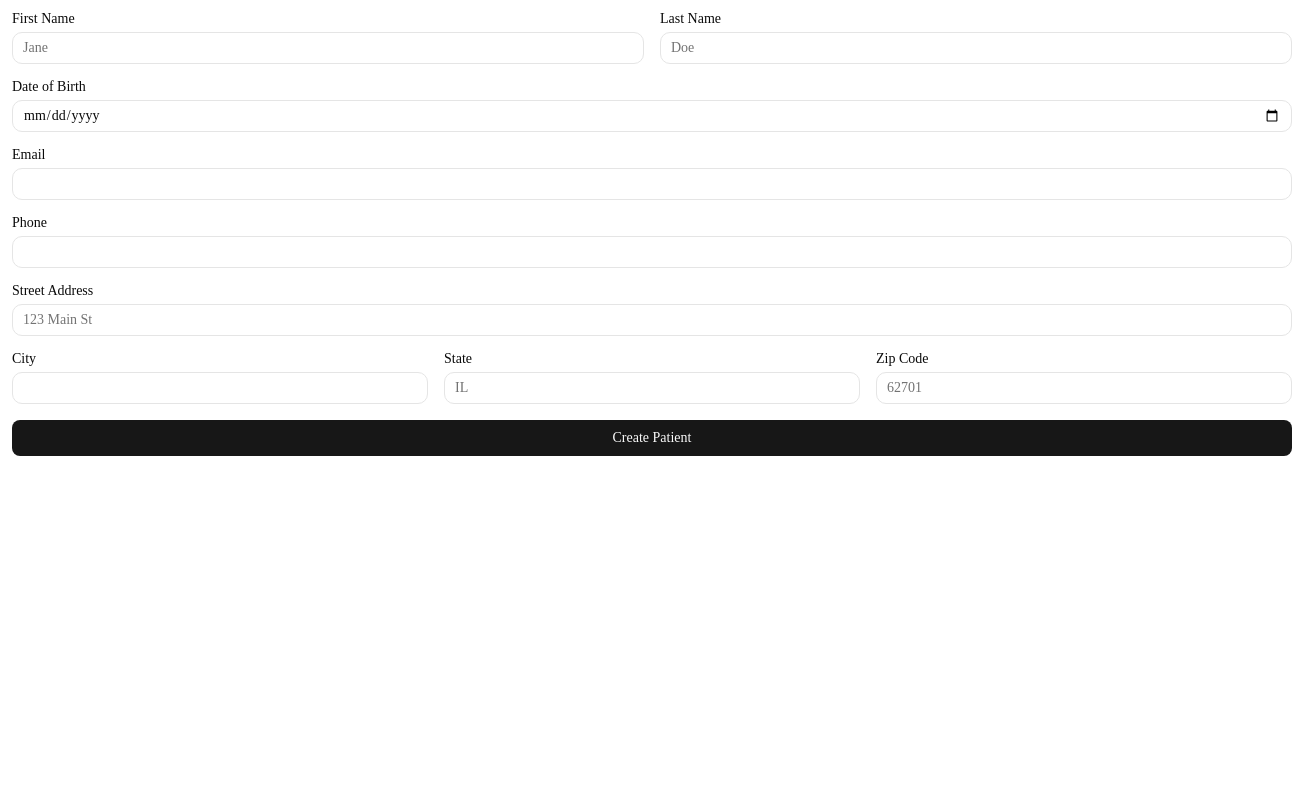
NewPatientForm › shows all field errors when the form is submitted with no input
Click the button "Create Patient" at (652, 438), box x1=12 y1=420 x2=1292 y2=456
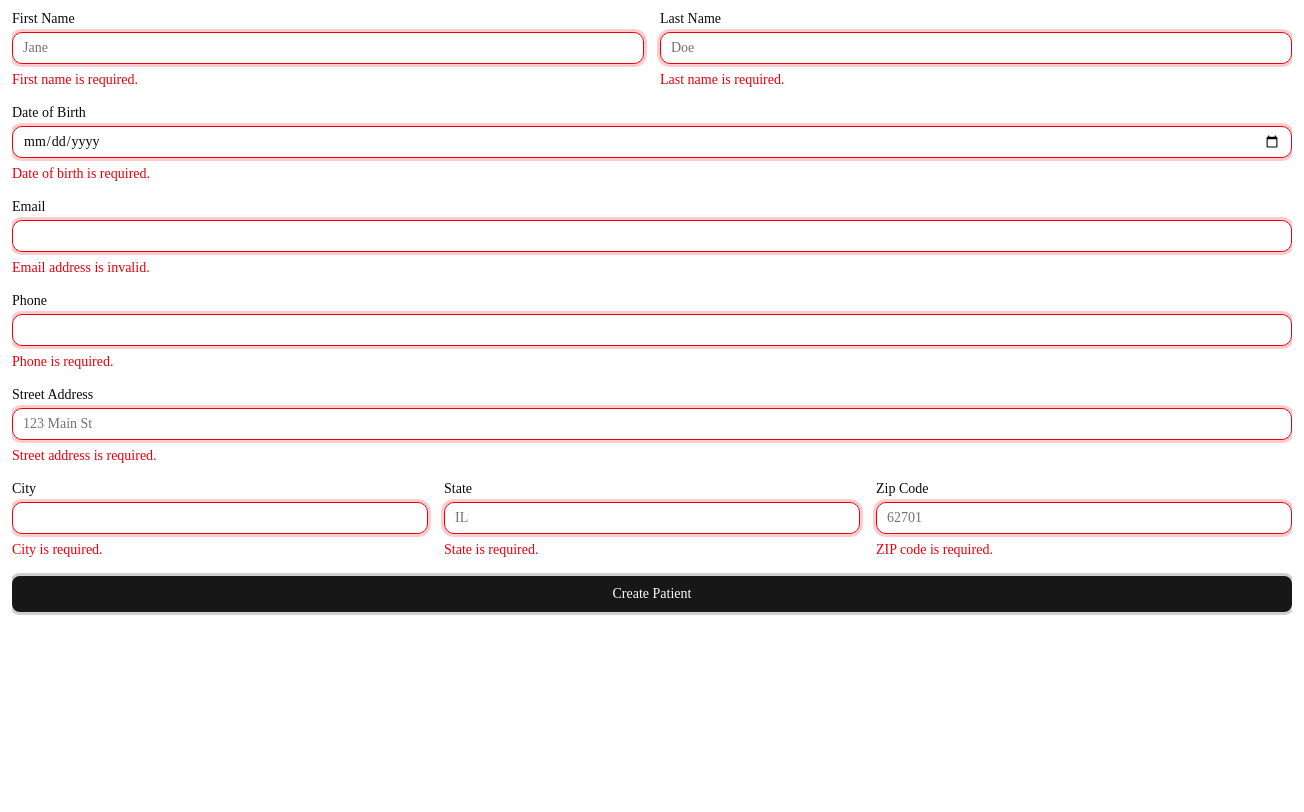
Result: the text "First name is required." is shown at x1=12 y1=72 x2=138 y2=87
Result: the text "Last name is required." is shown at x1=660 y1=72 x2=784 y2=87
Result: the text "Date of birth is required." is shown at x1=12 y1=166 x2=150 y2=181
